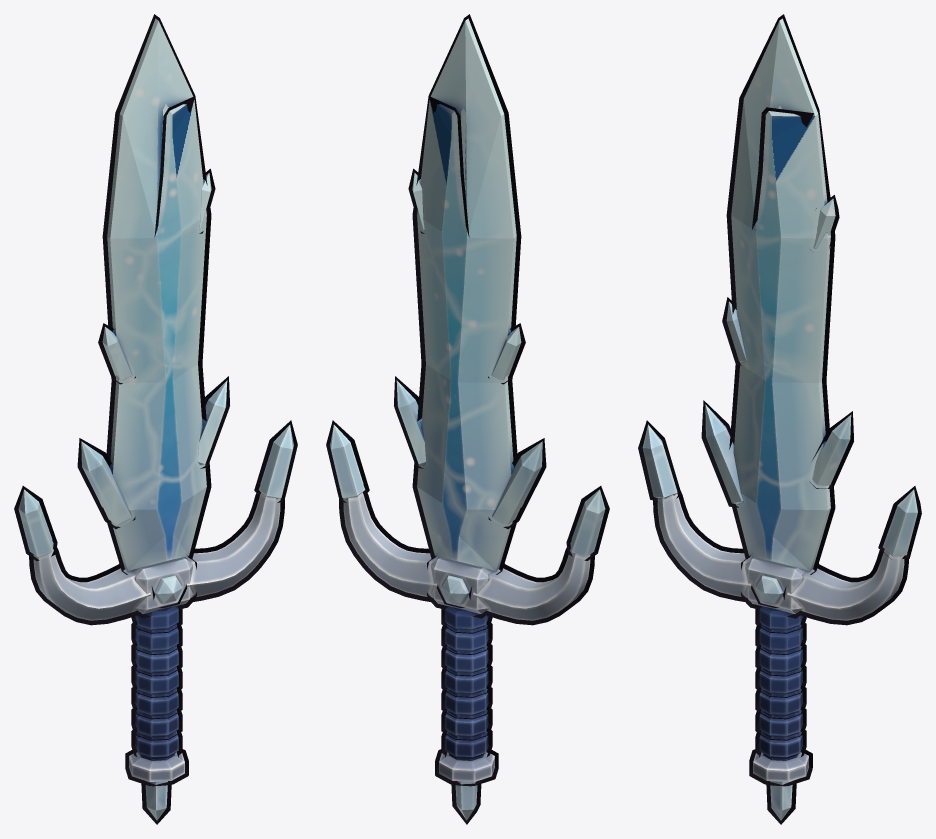
Rendered from CrystalSword.fbx.
3 views of the same model, side by side, from view 1: azimuth 30°, elevation 25°; view 2: azimuth 150°, elevation 25°; view 3: azimuth 330°, elevation 25° (orthographic).
Visible parts, largest first — view 1: CrystalSword, CrystalSwordOutline; view 2: CrystalSword, CrystalSwordOutline; view 3: CrystalSword, CrystalSwordOutline.
Boxes of the visible parts, bbox=[...] form: CrystalSword: bbox=[18, 18, 293, 820]; CrystalSwordOutline: bbox=[14, 14, 297, 824]; CrystalSword: bbox=[330, 18, 605, 820]; CrystalSwordOutline: bbox=[326, 14, 609, 824]; CrystalSword: bbox=[642, 18, 917, 820]; CrystalSwordOutline: bbox=[638, 14, 921, 824].
Size of the model in its own units: 156 by 432 by 36.4.
Materials: 2 (1 with a texture image).
